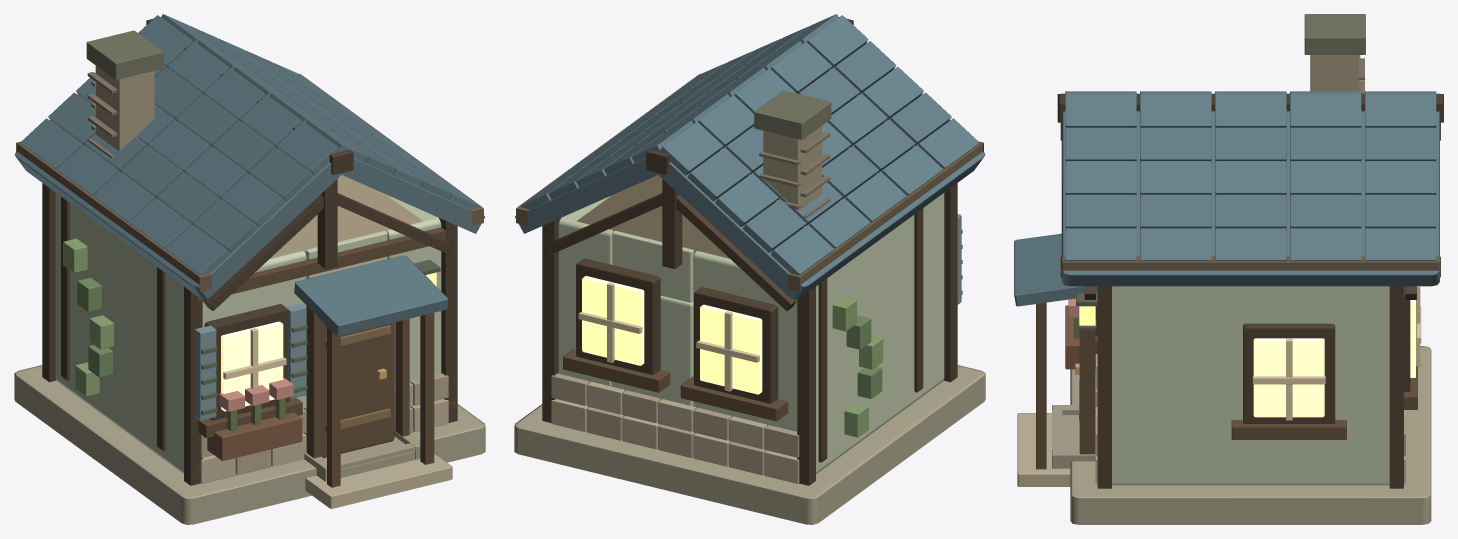
Rendered from house-2.glb.
The picture shows the model from 3 angles, left to right: view 1: azimuth 30°, elevation 25°; view 2: azimuth 150°, elevation 25°; view 3: azimuth 270°, elevation 25°; orthographic projection. The views are drawn at different scales.
Visible parts, largest first — view 1: house-2-0, door-hinge; view 2: house-2-0; view 3: house-2-0.
Boxes of the visible parts, box(x1,y1,x2,y2) form: house-2-0: box(14, 14, 485, 524); door-hinge: box(321, 320, 394, 457); house-2-0: box(514, 14, 985, 524); house-2-0: box(1014, 14, 1443, 524).
Bounding box in the file's own units: 1.88 × 2.19 × 2.24.
